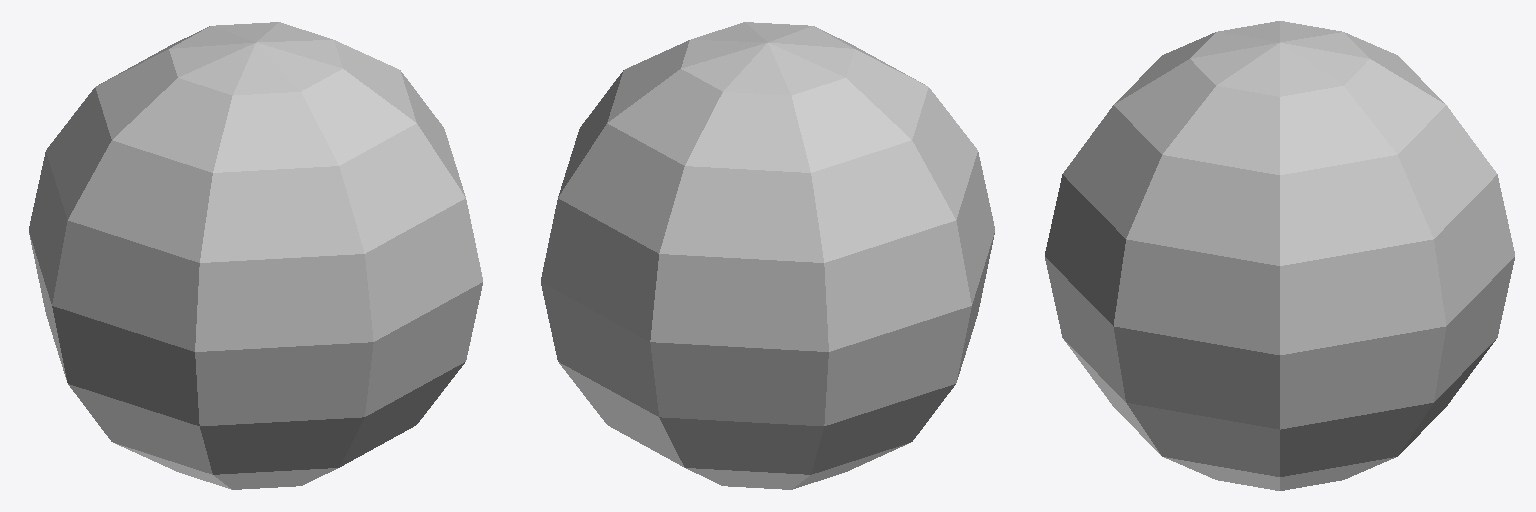
File: area51_tower_gooTank_d0.obj
3 views of the same model, side by side, from view 1: azimuth 30°, elevation 25°; view 2: azimuth 150°, elevation 25°; view 3: azimuth 270°, elevation 25° (orthographic).
Parts seen in each view (by area): view 1: forcefield group; view 2: forcefield group; view 3: forcefield group.
Part boxes in pixels (x1,y1,x2,y2): forcefield group: (29,22,482,489); forcefield group: (541,22,994,489); forcefield group: (1045,21,1514,490).
Bounding box in the file's own units: 9.63 × 9.63 × 9.63.